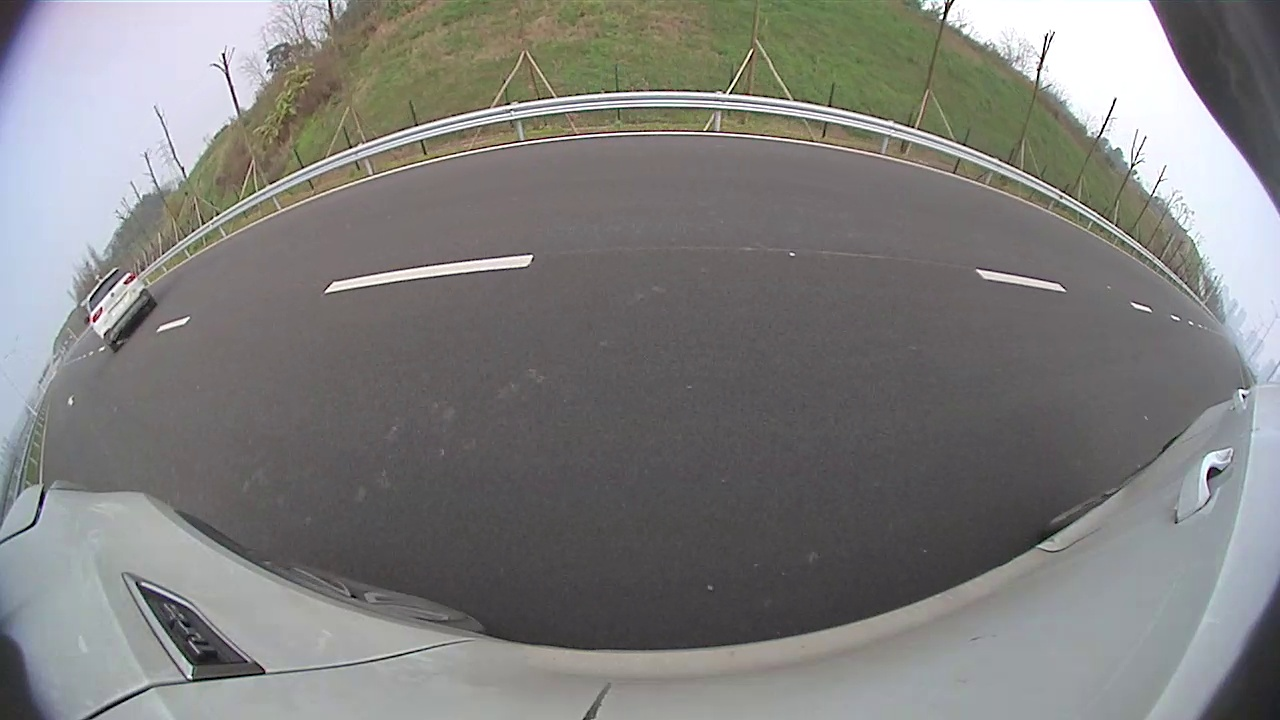car: (84, 266, 156, 353)
